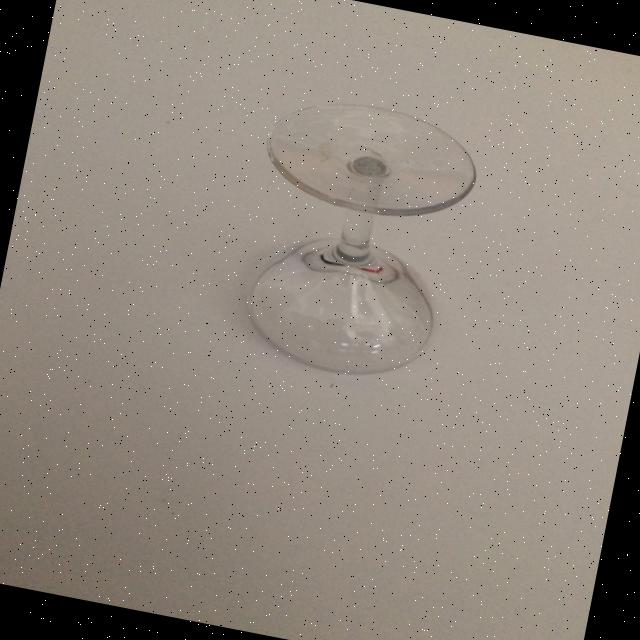glass: (225, 86, 486, 392)
